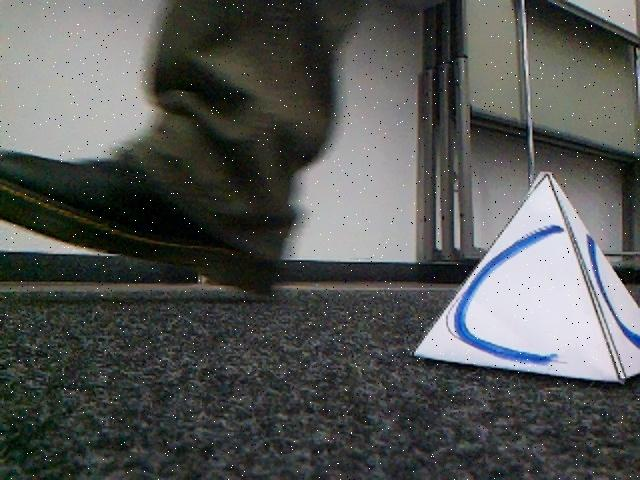C: (419, 176, 640, 383)
